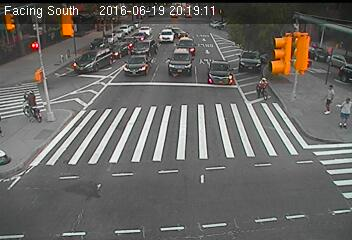neg: (13, 83, 47, 128), (250, 71, 273, 102), (56, 42, 77, 71), (179, 39, 200, 68)
pos: (315, 78, 344, 117), (333, 93, 351, 126)
